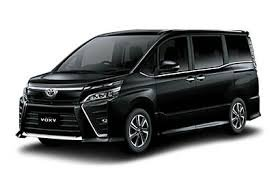mobil: (19, 25, 265, 153)
